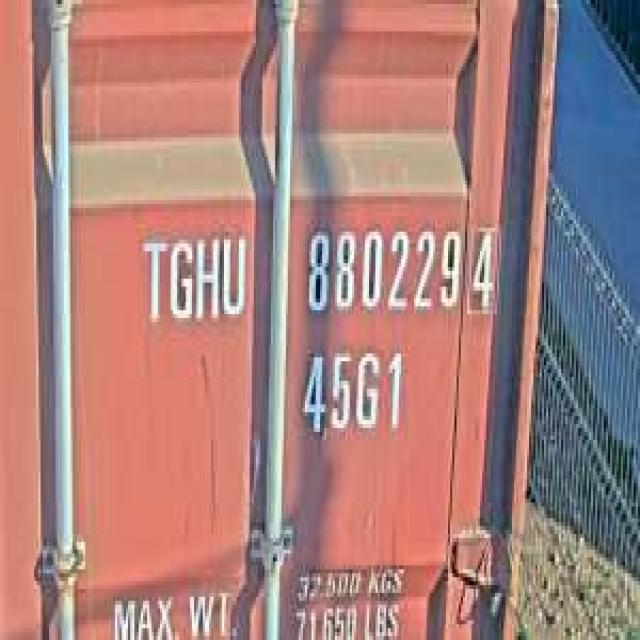dv: (465, 216, 501, 318)
owner: (136, 224, 250, 334)
serial: (296, 216, 461, 322)
size: (294, 338, 408, 448)
